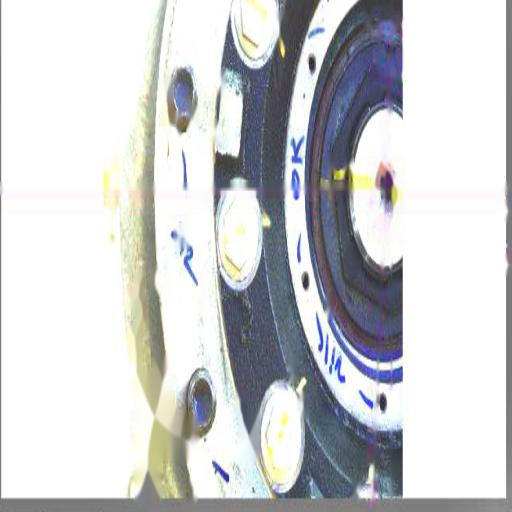center: (378, 173, 396, 209)
notch: (382, 34, 400, 72)
